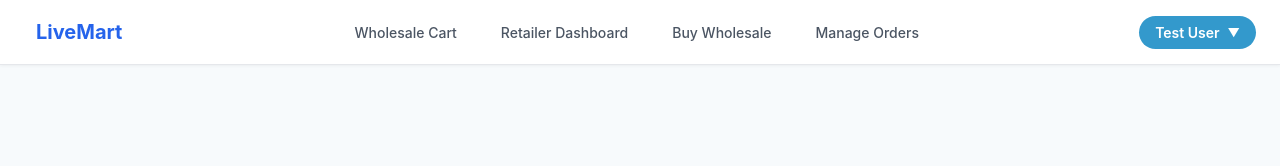
Test: Navbar › shows user name and logout button when user is logged in
This screenshot has width=1280, height=166.
Note: Click username button to open menu
Click the button "Test User ▼": (1198, 32) [1139, 16, 1256, 48]
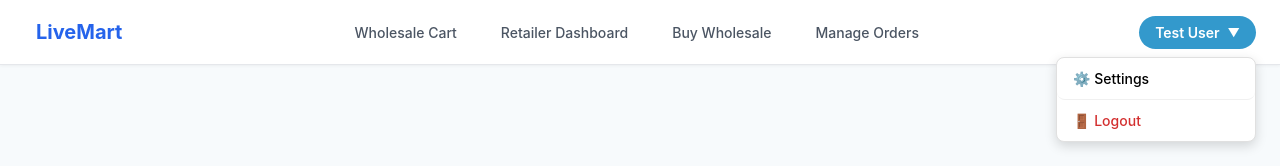
Check: the button "🚪 Logout" is shown, box [1057, 100, 1255, 140]
